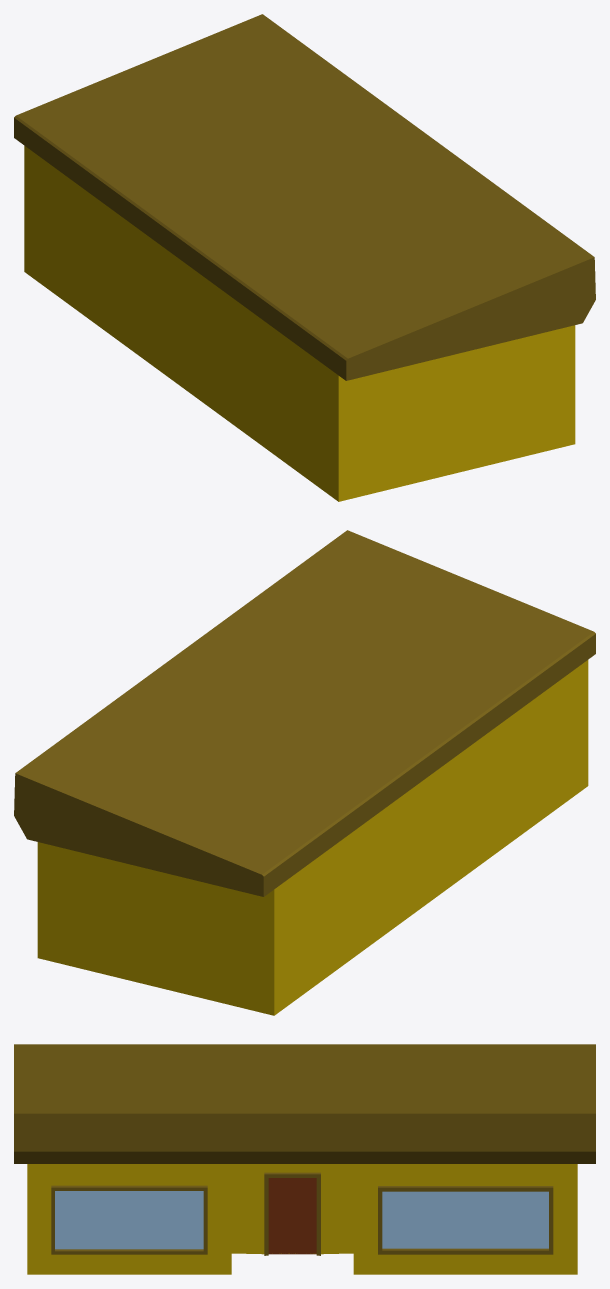
File: yellow residential building 3.fbx
The picture shows the model from 3 angles, top to bottom: view 1: azimuth 30°, elevation 25°; view 2: azimuth 150°, elevation 25°; view 3: azimuth 270°, elevation 25°; orthographic projection. The views are drawn at different scales.
Parts seen in each view (by area): view 1: Cube; view 2: Cube; view 3: Cube.
Boxes of the visible parts, x1,y1,x2,y2 form: Cube: (14, 14, 595, 501); Cube: (14, 530, 595, 1015); Cube: (14, 1044, 595, 1274).
Size of the model in its own units: 414 by 301 by 953.
